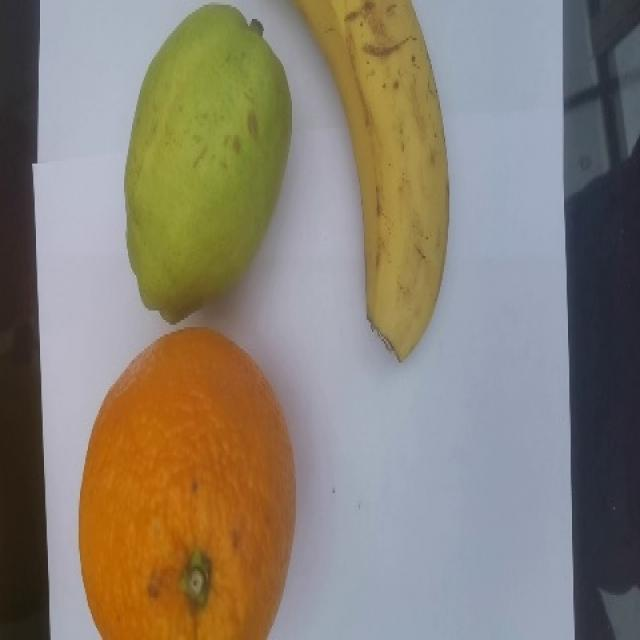Banana: (292, 0, 454, 361)
Orange: (75, 326, 302, 640)
